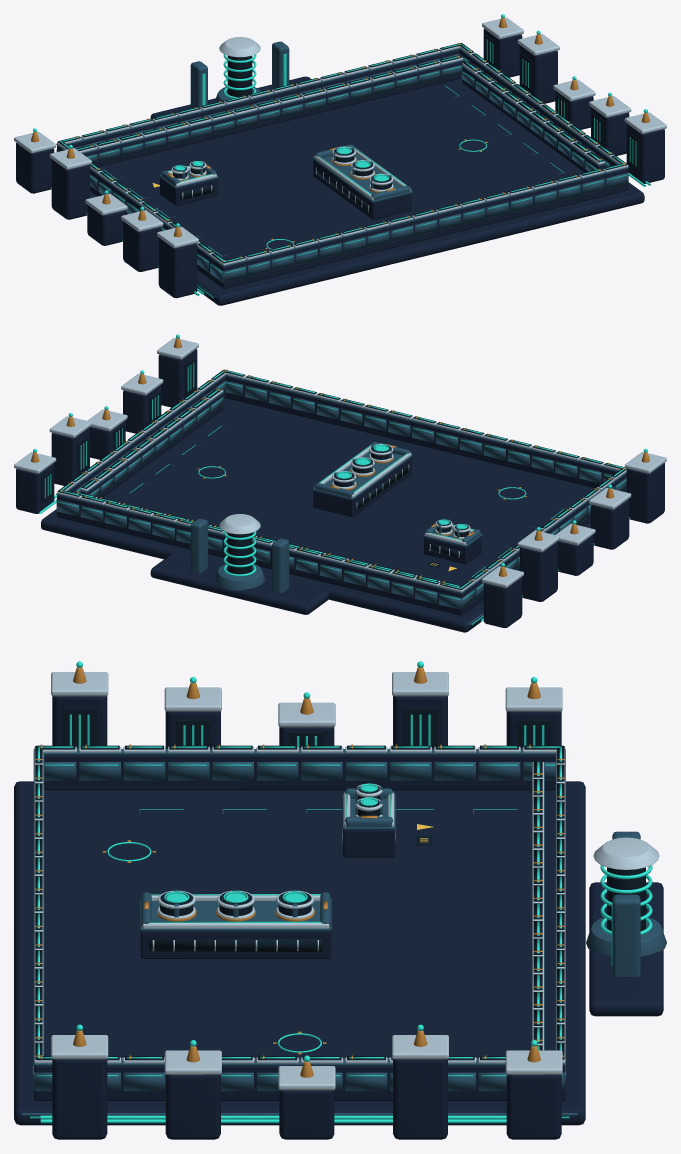
File: reactor.glb
3 renders of one model, top to bottom at view 1: azimuth 30°, elevation 25°; view 2: azimuth 150°, elevation 25°; view 3: azimuth 270°, elevation 25°, orthographic. The views are drawn at different scales.
Visible parts, largest first — view 1: Raised orbital deck, SOLID 1 border, SOLID 6 reflector, Exterior dock pylon.004, SOLID 0 border, Exterior dock pylon.001, Exterior dock pylon.009, Exterior dock pylon.003, Exterior dock pylon, SOLID 4 cover, Exterior dock pylon.006, SOLID 7 reflector (+26 smaller); view 2: Raised orbital deck, SOLID 1 border, SOLID 0 border, Horizon installation platform, Exterior dock pylon.001, Exterior dock pylon.004, Exterior dock pylon, Exterior dock pylon.003, SOLID 4 cover, Exterior dock pylon.009, Exterior dock pylon.006, Exterior dock pylon.005 (+26 smaller); view 3: Raised orbital deck, SOLID 2 border, Horizon installation platform, SOLID 3 border, Exterior dock pylon.009, Exterior dock pylon.006, Exterior dock pylon.008, Exterior dock pylon.005, SOLID 4 cover, Exterior dock pylon.007, Reactor retaining arm.001, SOLID crown 4 cover (+44 smaller).
Boxes of the visible parts, left/top/right/bottom form: Raised orbital deck: left=90, top=78, right=644, bottom=305; SOLID 1 border: left=221, top=168, right=627, bottom=288; SOLID 6 reflector: left=83, top=61, right=462, bottom=166; Exterior dock pylon.004: left=158, top=237, right=197, bottom=298; SOLID 0 border: left=57, top=49, right=459, bottom=149; Exterior dock pylon.001: left=51, top=159, right=89, bottom=219; Exterior dock pylon.009: left=626, top=123, right=664, bottom=183; Exterior dock pylon.003: left=123, top=221, right=161, bottom=271; Exterior dock pylon: left=16, top=143, right=54, bottom=193; SOLID 4 cover: left=313, top=159, right=411, bottom=219; Exterior dock pylon.006: left=519, top=45, right=557, bottom=103; SOLID 7 reflector: left=462, top=67, right=604, bottom=172; Raised orbital deck: left=41, top=398, right=593, bottom=632; SOLID 1 border: left=225, top=376, right=617, bottom=488; SOLID 0 border: left=57, top=495, right=463, bottom=615; Horizon installation platform: left=150, top=553, right=329, bottom=614; Exterior dock pylon.001: left=519, top=541, right=557, bottom=601; Exterior dock pylon.004: left=626, top=463, right=664, bottom=523; Exterior dock pylon: left=483, top=577, right=522, bottom=627; Exterior dock pylon.003: left=591, top=499, right=629, bottom=549; SOLID 4 cover: left=313, top=457, right=411, bottom=517; Exterior dock pylon.009: left=158, top=349, right=197, bottom=407; Exterior dock pylon.006: left=51, top=427, right=89, bottom=485; Exterior dock pylon.005: left=16, top=463, right=54, bottom=513; Raised orbital deck: left=14, top=781, right=585, bottom=1125; SOLID 2 border: left=44, top=755, right=555, bottom=790; Horizon installation platform: left=589, top=882, right=663, bottom=1016; SOLID 3 border: left=34, top=1065, right=565, bottom=1100; Exterior dock pylon.009: left=52, top=1059, right=107, bottom=1139; Exterior dock pylon.006: left=393, top=1059, right=447, bottom=1139; Exterior dock pylon.008: left=165, top=1074, right=220, bottom=1139; Exterior dock pylon.005: left=506, top=1074, right=561, bottom=1139; SOLID 4 cover: left=140, top=931, right=331, bottom=958; Exterior dock pylon.007: left=279, top=1090, right=334, bottom=1139; Reactor retaining arm.001: left=612, top=894, right=640, bottom=976; SOLID crown 4 cover: left=140, top=898, right=331, bottom=930.
Bounding box in the file's own units: 25.51 × 3.69 × 18.39.
